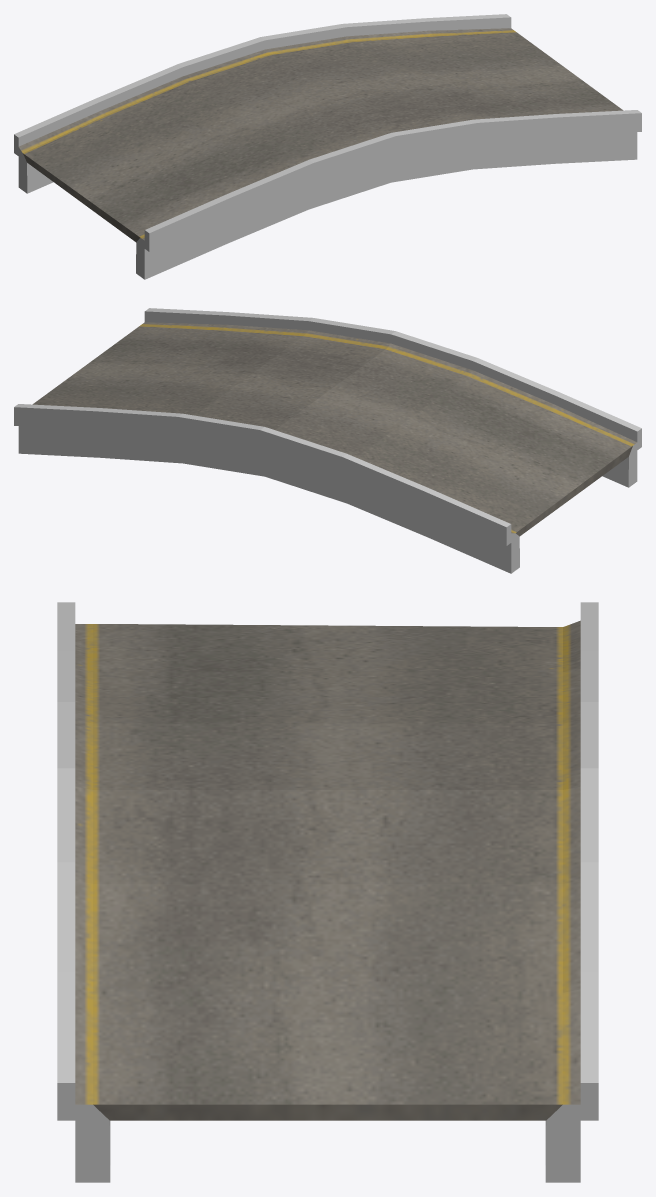
Rendered from Urban_Road2SmallBridgeNoSides_Model.fbx.
3 renders of one model, top to bottom at view 1: azimuth 30°, elevation 25°; view 2: azimuth 150°, elevation 25°; view 3: azimuth 270°, elevation 25°, orthographic. The views are drawn at different scales.
Parts seen in each view (by area): view 1: Urban_Road2SmallBridgeNoSides_Mesh; view 2: Urban_Road2SmallBridgeNoSides_Mesh; view 3: Urban_Road2SmallBridgeNoSides_Mesh.
Boxes of the visible parts, x1,y1,x2,y2 form: Urban_Road2SmallBridgeNoSides_Mesh: [14, 14, 641, 279]; Urban_Road2SmallBridgeNoSides_Mesh: [14, 308, 641, 573]; Urban_Road2SmallBridgeNoSides_Mesh: [57, 602, 598, 1182].
Size of the model in its own units: 36 by 6.07 by 17.13.
